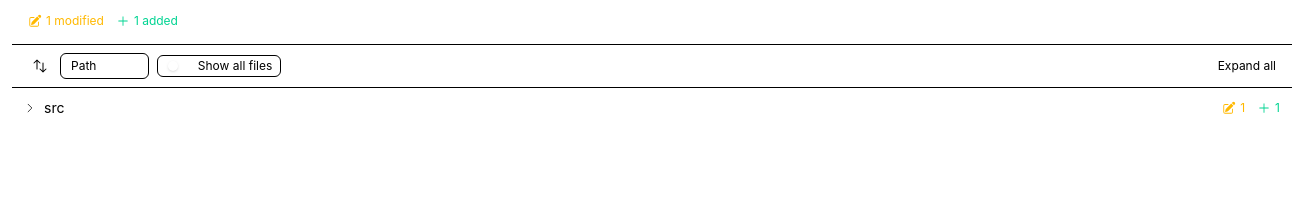
Test: CommitFileList › collapses an expanded folder from the folder context menu
Click the button "Tree" at (125, 66), box [104,56,146,76]
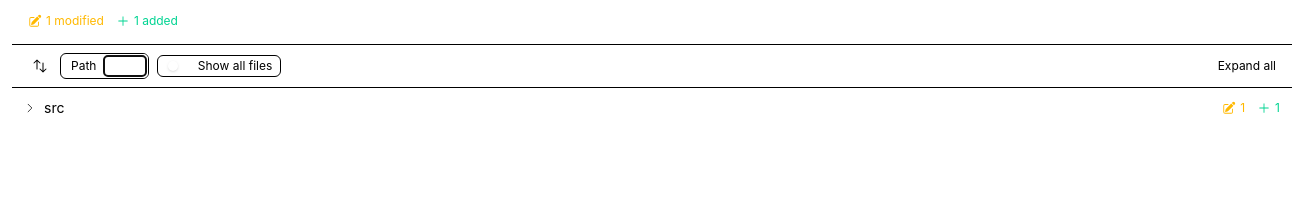
Click the button "Expand all" at (1247, 66), box [1218,58,1276,74]
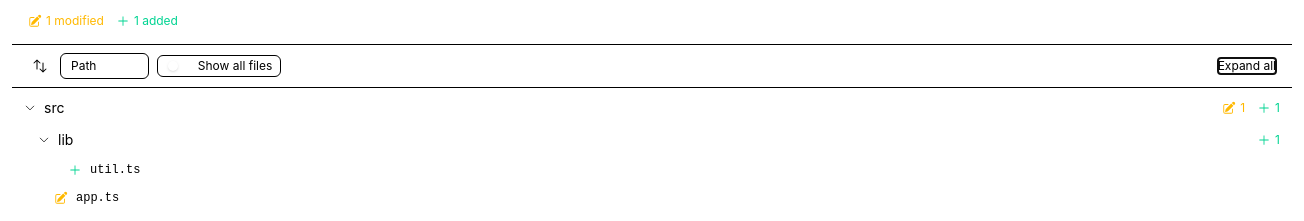
Expected: the text "util.ts" is shown, [90,162,140,178]
Right-click the text "src" at (54, 108), box [44,99,64,116]
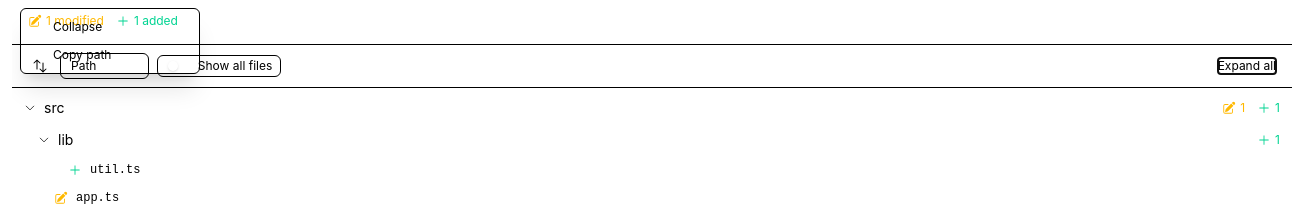
Click the menu item "Collapse" at (110, 27), box [21,13,199,41]
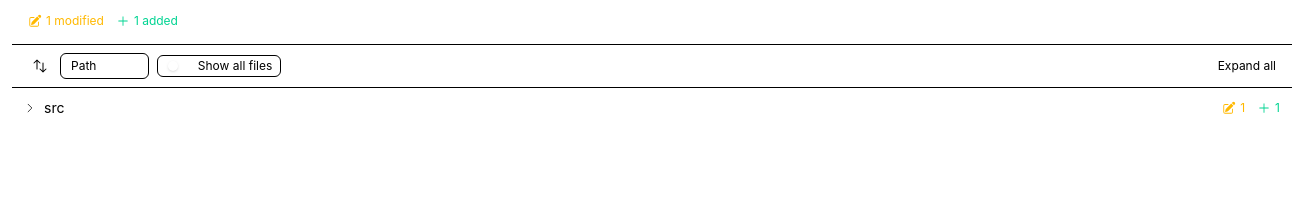
Expected: the button "util.ts" is gone
